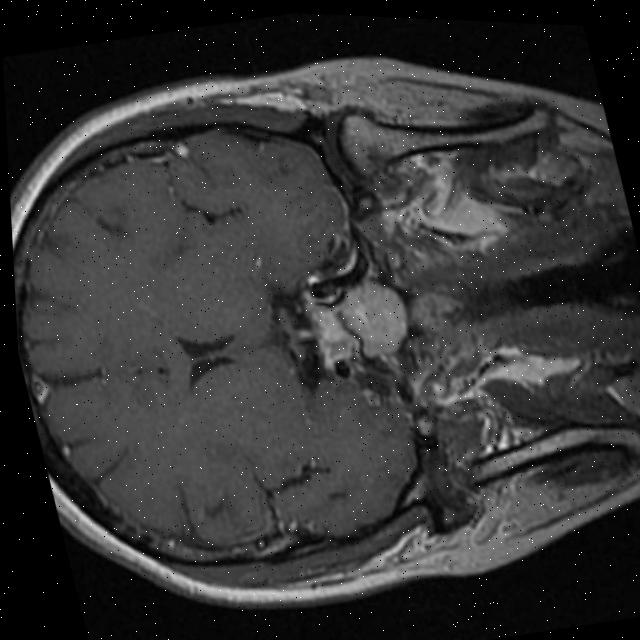Pituitary: (335, 273, 417, 363), (302, 296, 365, 369)
